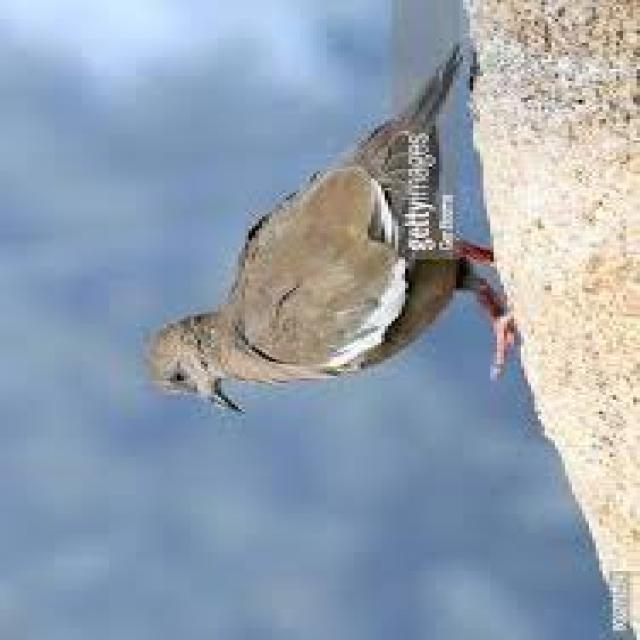pigeon: (127, 56, 543, 457)
